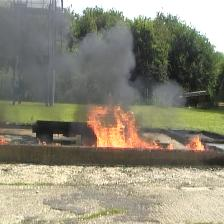fire: (86, 106, 161, 149), (185, 137, 206, 150)
